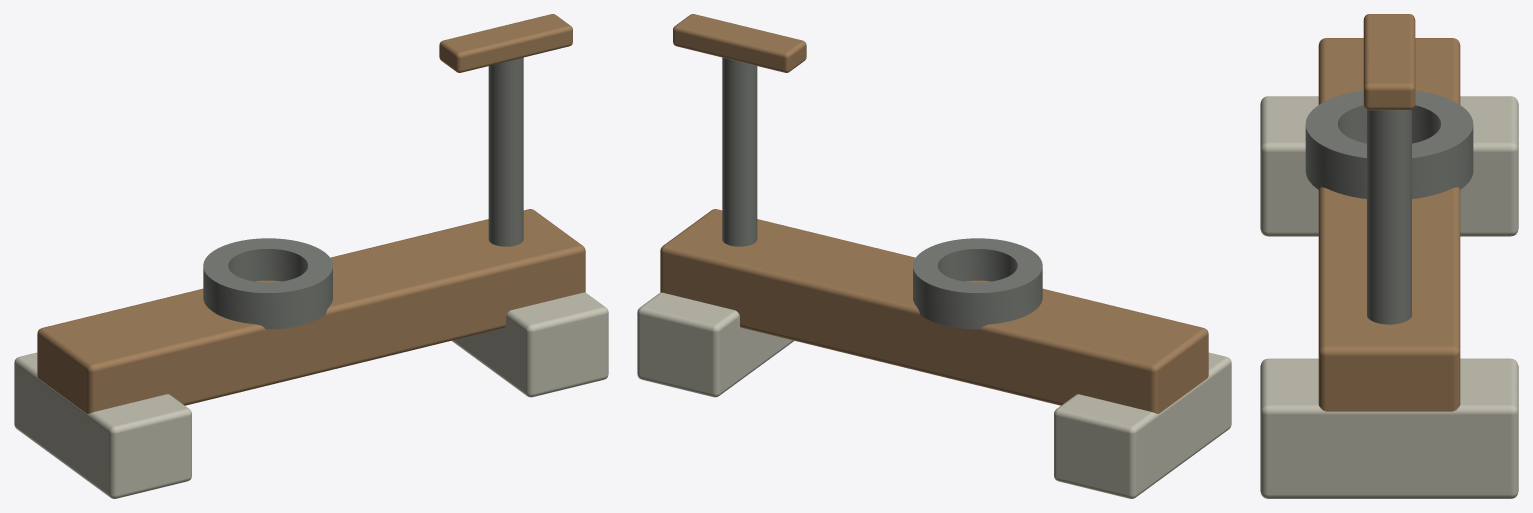
File: tentering-beam-assembly.glb
The picture shows the model from 3 angles, left to right: view 1: azimuth 30°, elevation 25°; view 2: azimuth 150°, elevation 25°; view 3: azimuth 270°, elevation 25°; orthographic projection. The views are drawn at different scales.
Parts seen in each view (by area): view 1: tentering-beam-assembly; view 2: tentering-beam-assembly; view 3: tentering-beam-assembly.
Part boxes in pixels (x1,y1,x2,y2): tentering-beam-assembly: (14,14,608,498); tentering-beam-assembly: (637,14,1231,498); tentering-beam-assembly: (1260,14,1518,498).
Size of the model in its own units: 1.16 by 0.715 by 0.4.
